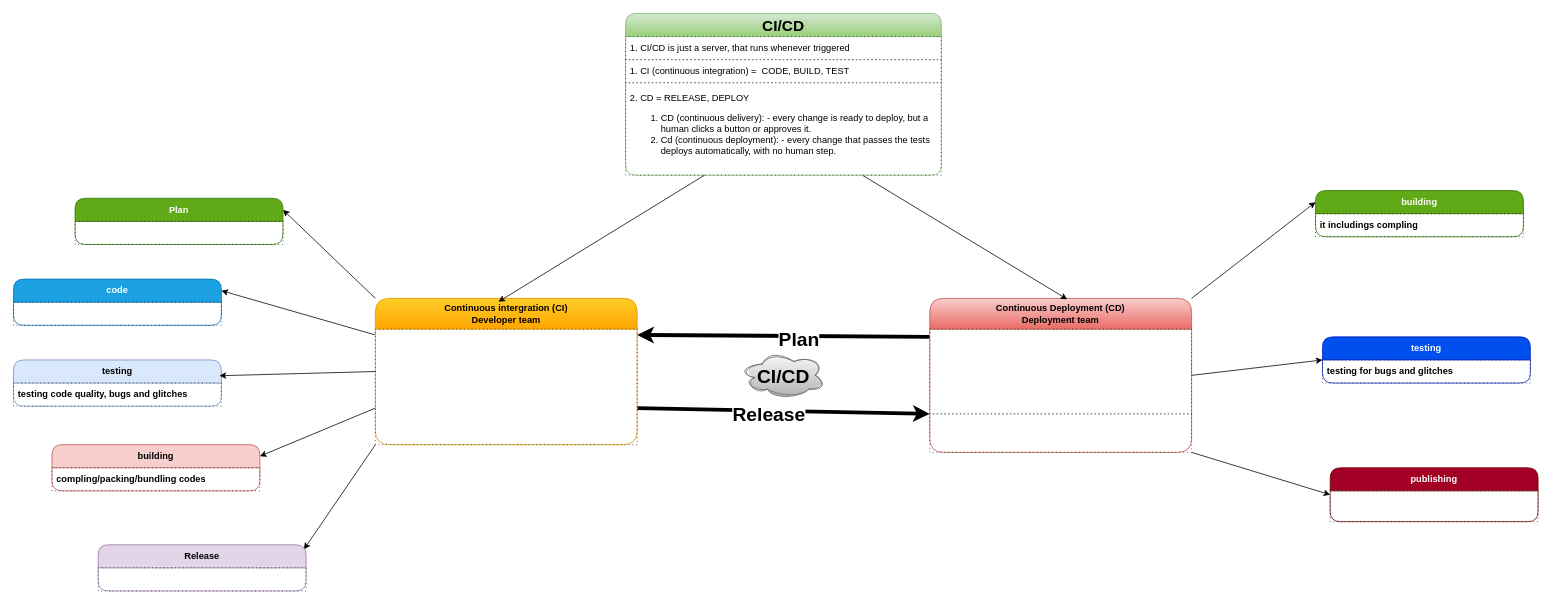
This 1552x604 diagram has some shape labels left out. Here are the shapes that lost their labels. From the top down, the centre of each, then its label:
(178,232): Plan: - planing/idea what to build
(117,313): creating/implementing idea in reality
(506,386): CI includes: - planing coding testing building release
(1060,371): CD includes: - building testing publishing
(1060,432): After the code in infrastructure (remote server)
(1433,506): upload the release/package to the cloud platforms
(201,579): release the version/tag of our product
